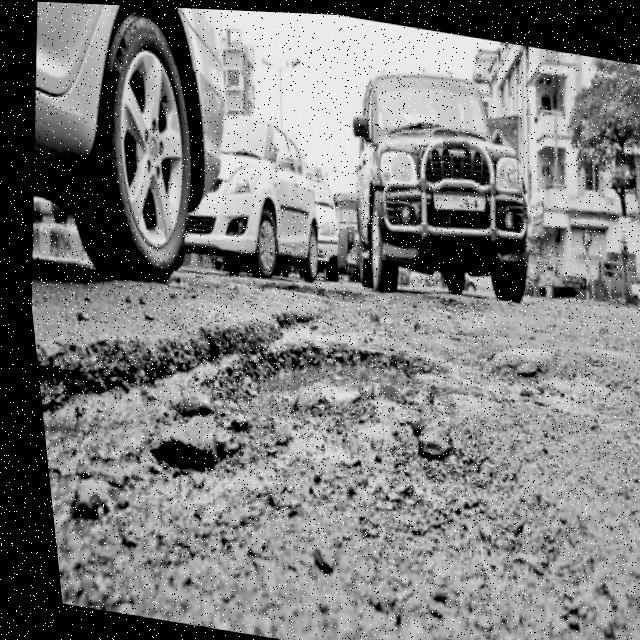pothole: (210, 303, 422, 444)
